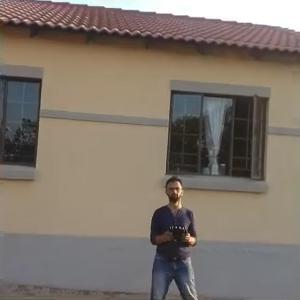follow: (142, 168, 203, 298)
